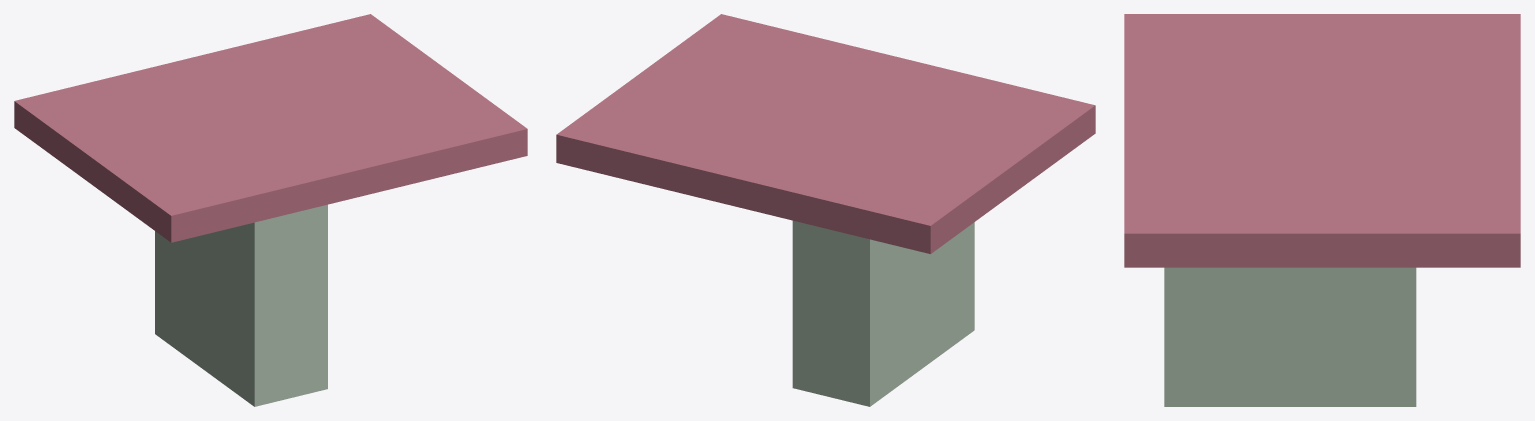
3 renders of one model, left to right at view 1: azimuth 30°, elevation 25°; view 2: azimuth 150°, elevation 25°; view 3: azimuth 270°, elevation 25°, orthographic. The views are drawn at different scales.
Visible parts, largest first — view 1: world; view 2: world; view 3: world.
Part boxes in pixels (left/top/right/bottom): world: left=14, top=14, right=527, bottom=406; world: left=556, top=14, right=1095, bottom=406; world: left=1124, top=14, right=1520, bottom=406.
Size of the model in its own units: 9.7 by 5.9 by 7.4.
